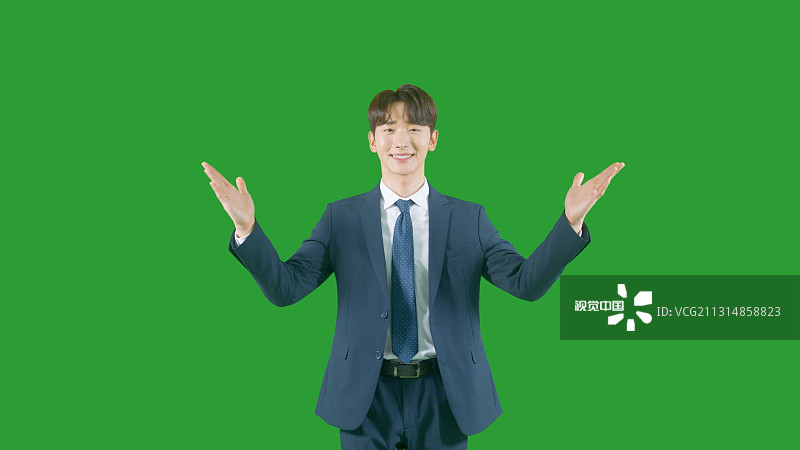no-phone: (551, 152, 635, 242), (186, 150, 268, 240)
